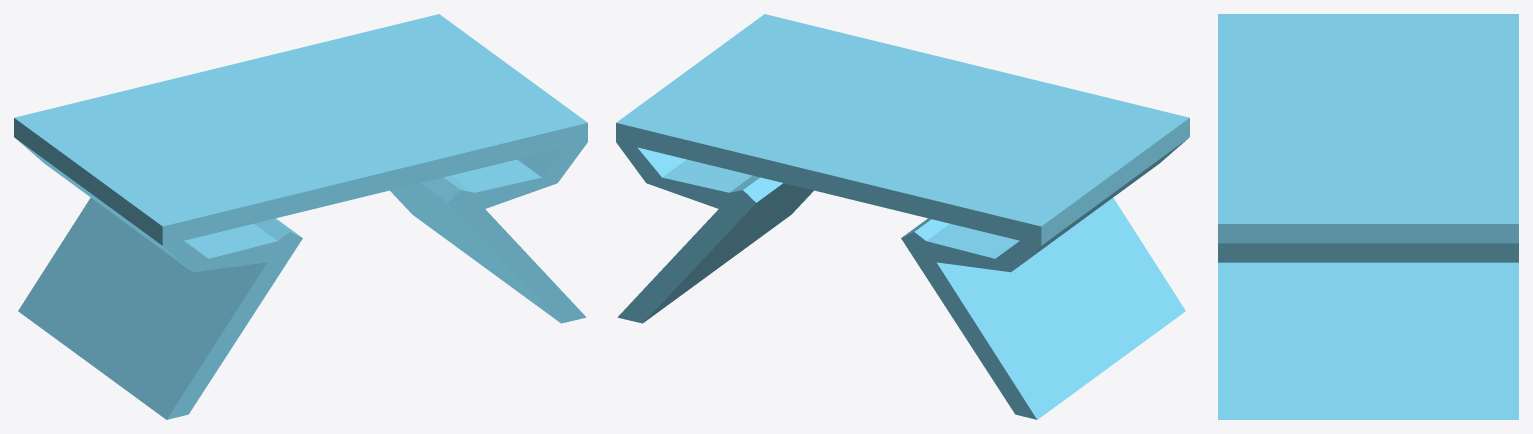
Rendered from tafel.FBX.
The picture shows the model from 3 angles, left to right: view 1: azimuth 30°, elevation 25°; view 2: azimuth 150°, elevation 25°; view 3: azimuth 270°, elevation 25°; orthographic projection.
Visible parts, largest first — view 1: Box001; view 2: Box001; view 3: Box001.
Part boxes in pixels (x1,y1,x2,y2): Box001: (14, 14, 587, 419); Box001: (616, 14, 1189, 419); Box001: (1218, 14, 1518, 419).
Size of the model in its own units: 72.29 by 31.59 by 43.77.
